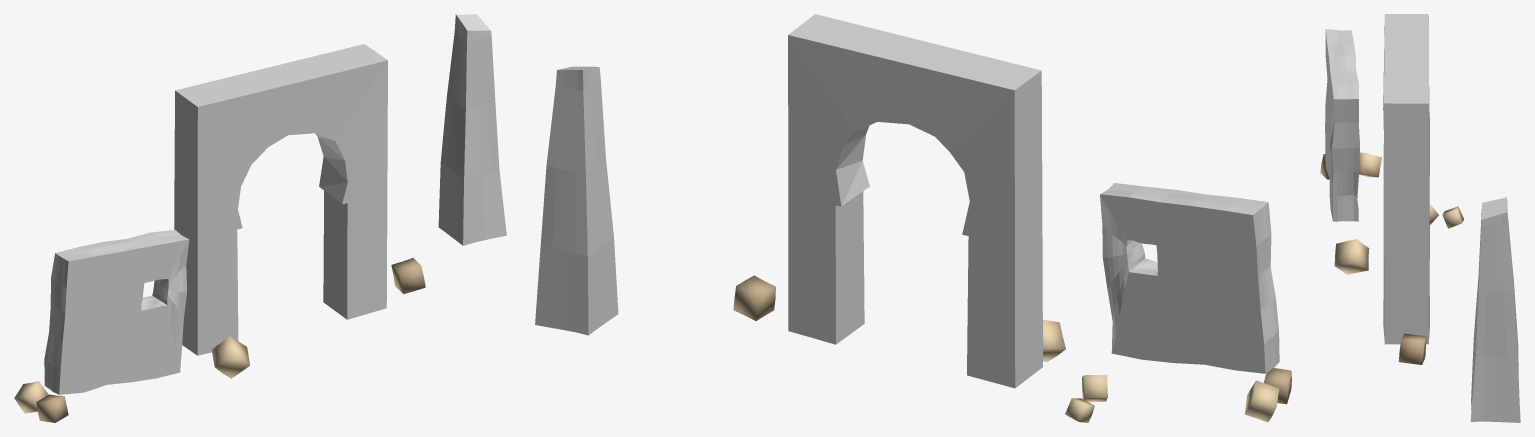
Rendered from origin-structures.glb.
The picture shows the model from 3 angles, left to right: view 1: azimuth 30°, elevation 25°; view 2: azimuth 150°, elevation 25°; view 3: azimuth 270°, elevation 25°; orthographic projection. The views are drawn at different scales.
Parts seen in each view (by area): view 1: origin_arch_wall, origin_wall_fragment, origin_obelisk, origin_rubble_5, origin_rubble_4, origin_rubble_1, origin_rubble_0; view 2: origin_arch_wall, origin_wall_fragment, origin_obelisk, origin_rubble_4, origin_rubble_0, origin_rubble_5, origin_rubble_2; view 3: origin_arch_wall, origin_obelisk, origin_wall_fragment, origin_rubble_5, origin_rubble_4, origin_rubble_0, origin_rubble_3.
Part boxes in pixels (left/top/right/bottom): origin_arch_wall: left=174, top=44, right=387, bottom=355; origin_wall_fragment: left=44, top=230, right=189, bottom=394; origin_obelisk: left=438, top=14, right=506, bottom=245; origin_rubble_5: left=211, top=336, right=249, bottom=378; origin_rubble_4: left=391, top=258, right=425, bottom=294; origin_rubble_1: left=36, top=394, right=68, bottom=422; origin_rubble_0: left=14, top=381, right=48, bottom=413; origin_arch_wall: left=788, top=14, right=1042, bottom=388; origin_wall_fragment: left=1100, top=183, right=1279, bottom=373; origin_obelisk: left=535, top=66, right=618, bottom=335; origin_rubble_4: left=733, top=275, right=775, bottom=320; origin_rubble_0: left=1244, top=380, right=1279, bottom=422; origin_rubble_5: left=1043, top=320, right=1065, bottom=361; origin_rubble_2: left=1082, top=374, right=1107, bottom=402; origin_arch_wall: left=1383, top=14, right=1429, bottom=344; origin_obelisk: left=1470, top=197, right=1520, bottom=422; origin_wall_fragment: left=1325, top=29, right=1359, bottom=221; origin_rubble_5: left=1334, top=239, right=1369, bottom=274; origin_rubble_4: left=1398, top=333, right=1426, bottom=364; origin_rubble_0: left=1359, top=152, right=1381, bottom=177; origin_rubble_3: left=1442, top=206, right=1463, bottom=228.
Size of the model in its own units: 3.45 by 1.59 by 1.13.
